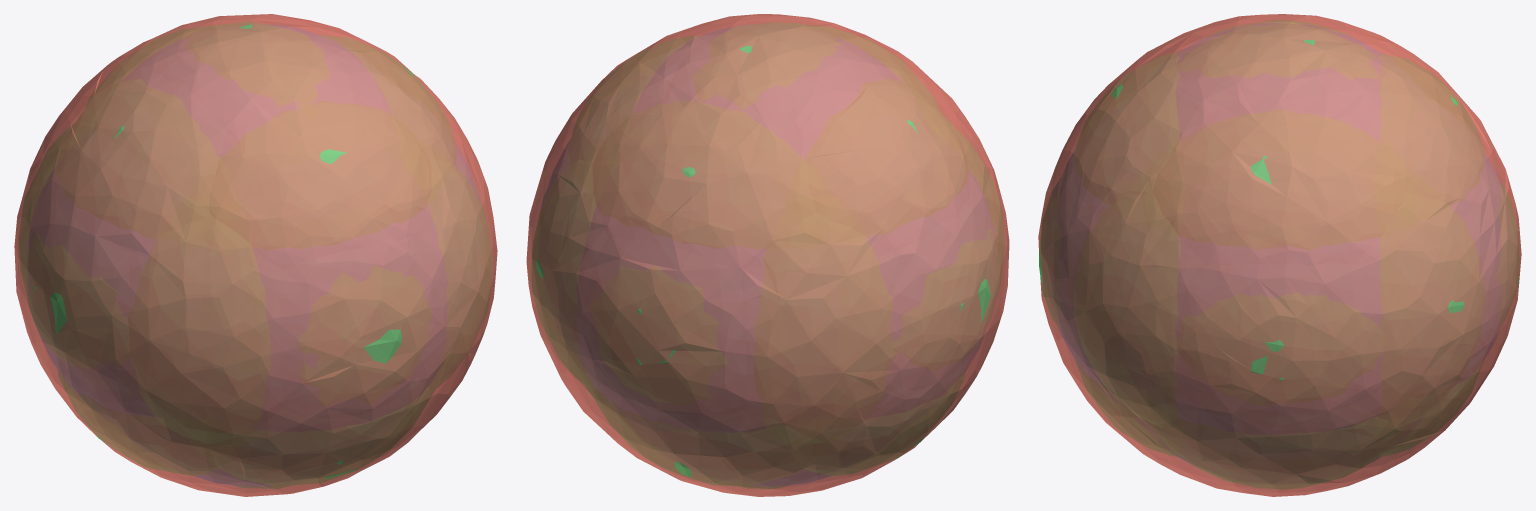
File: orbital.glb
The picture shows the model from 3 angles, left to right: view 1: azimuth 30°, elevation 25°; view 2: azimuth 150°, elevation 25°; view 3: azimuth 270°, elevation 25°; orthographic projection.
Visible parts, largest first — view 1: Pd_n4_s_ml0_node, Pd_n4_d_ml1_node, Pd_n4_d_ml-1_node, Pd_n4_d_ml-2_node, Pd_n4_p_ml0_node, Pd_n4_d_ml2_node, Pd_n4_d_ml0_node, Pd_n4_p_ml-1_node, Pd_n4_p_ml1_node; view 2: Pd_n4_s_ml0_node, Pd_n4_d_ml1_node, Pd_n4_d_ml-1_node, Pd_n4_d_ml-2_node, Pd_n4_p_ml0_node, Pd_n4_d_ml2_node, Pd_n4_d_ml0_node, Pd_n4_p_ml1_node, Pd_n4_p_ml-1_node; view 3: Pd_n4_s_ml0_node, Pd_n4_d_ml-2_node, Pd_n4_d_ml1_node, Pd_n4_d_ml-1_node, Pd_n4_d_ml2_node, Pd_n4_p_ml1_node, Pd_n4_p_ml-1_node, Pd_n4_p_ml0_node, Pd_n4_d_ml0_node.
Boxes of the visible parts, bbox=[...] form: Pd_n4_s_ml0_node: bbox=[14, 14, 497, 496]; Pd_n4_d_ml1_node: bbox=[19, 124, 492, 443]; Pd_n4_d_ml-1_node: bbox=[86, 24, 431, 485]; Pd_n4_d_ml-2_node: bbox=[55, 35, 456, 475]; Pd_n4_p_ml0_node: bbox=[253, 204, 447, 432]; Pd_n4_d_ml2_node: bbox=[24, 21, 484, 488]; Pd_n4_d_ml0_node: bbox=[297, 265, 432, 406]; Pd_n4_p_ml-1_node: bbox=[122, 24, 390, 486]; Pd_n4_p_ml1_node: bbox=[27, 142, 480, 417]; Pd_n4_s_ml0_node: bbox=[526, 14, 1009, 496]; Pd_n4_d_ml1_node: bbox=[531, 126, 1004, 442]; Pd_n4_d_ml-1_node: bbox=[592, 25, 938, 486]; Pd_n4_d_ml-2_node: bbox=[568, 36, 968, 475]; Pd_n4_p_ml0_node: bbox=[576, 206, 766, 432]; Pd_n4_d_ml2_node: bbox=[540, 22, 999, 488]; Pd_n4_d_ml0_node: bbox=[589, 266, 727, 404]; Pd_n4_p_ml1_node: bbox=[542, 139, 995, 418]; Pd_n4_p_ml-1_node: bbox=[632, 24, 902, 486]; Pd_n4_s_ml0_node: bbox=[1038, 14, 1521, 496]; Pd_n4_d_ml-2_node: bbox=[1153, 20, 1405, 489]; Pd_n4_d_ml1_node: bbox=[1074, 193, 1485, 424]; Pd_n4_d_ml-1_node: bbox=[1074, 52, 1484, 456]; Pd_n4_d_ml2_node: bbox=[1176, 24, 1383, 405]; Pd_n4_p_ml1_node: bbox=[1175, 237, 1384, 434]; Pd_n4_p_ml-1_node: bbox=[1176, 23, 1382, 466]; Pd_n4_p_ml0_node: bbox=[1055, 152, 1502, 385]; Pd_n4_d_ml0_node: bbox=[1039, 178, 1519, 327].
Bounding box in the file's own units: 2.06 × 2.07 × 2.06.
